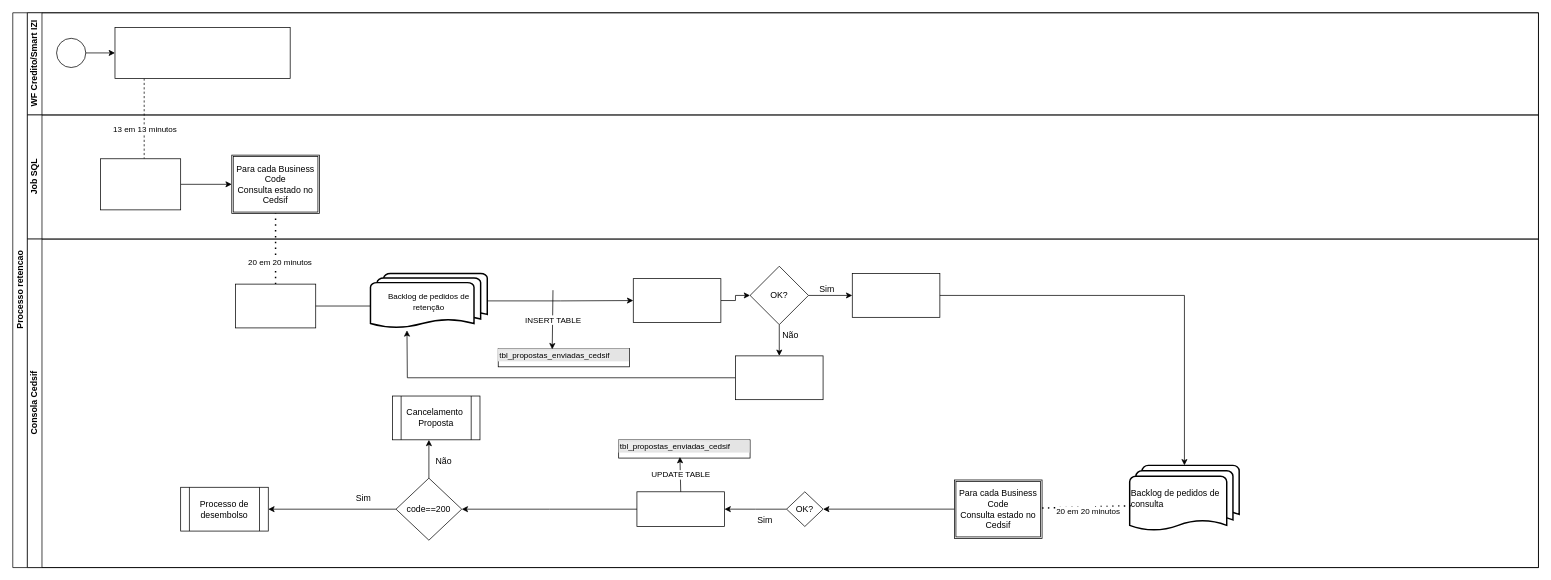
The diagram is 1551 pixels wide and 580 high, and some of its shapes have lost their labels. The centre of each missing label's shape, as x and y in pixels:
Copia para fila de processamento da consola: pixel 140 184
Guarda o Business Code para consulta de resposta: pixel 896 295
Lê o o backlog de pedidos de retenção: pixel 275 305
Para cada pedido é invocado o WS /XXXXX/: pixel 677 300
Pedido continua no backlog: pixel 779 377
Regista pedido de retenção na view vw_CEDSIF_Propostas_Por_Decidir: pixel 202 52
Reporta retenção ao WF: pixel 680 508
